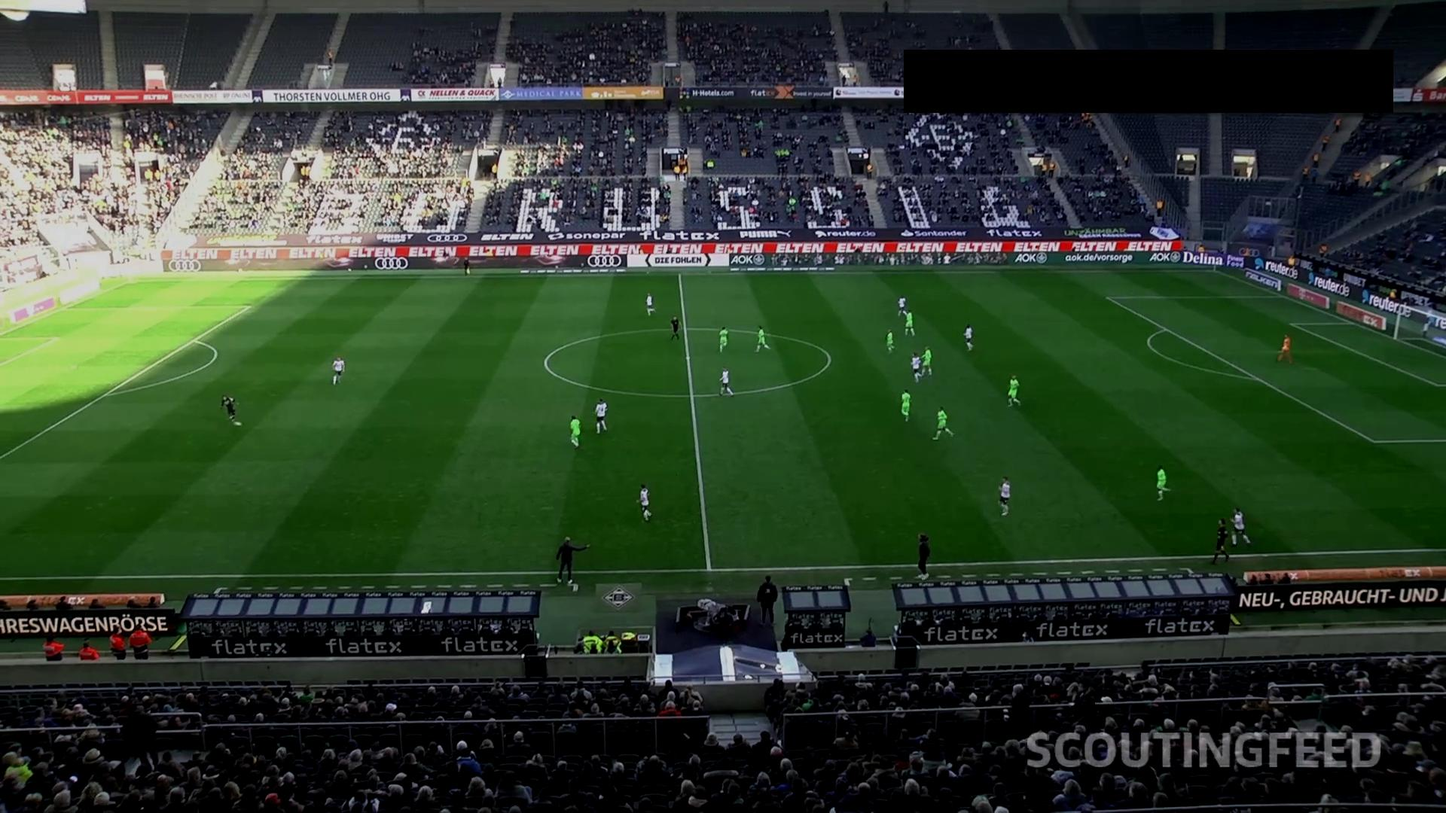ball: (235, 421, 243, 427)
player: (1232, 506, 1251, 548), (636, 483, 655, 523), (933, 406, 954, 441), (1155, 464, 1172, 502), (998, 474, 1012, 516), (718, 364, 735, 398), (754, 324, 772, 356), (220, 395, 239, 423), (1007, 374, 1022, 408), (568, 415, 582, 449), (595, 398, 608, 434), (1278, 334, 1292, 364), (332, 355, 345, 386), (900, 389, 912, 422), (911, 352, 922, 383), (922, 346, 932, 377), (718, 327, 729, 353), (905, 310, 916, 336), (964, 324, 974, 352), (645, 292, 656, 316), (897, 294, 908, 317), (885, 329, 895, 352)
refree: (1212, 517, 1230, 564), (670, 315, 682, 340), (464, 256, 470, 277)
